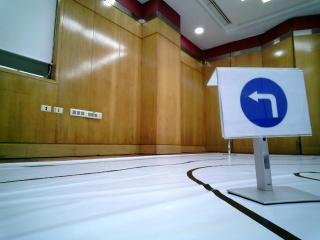left: (224, 69, 304, 138)
